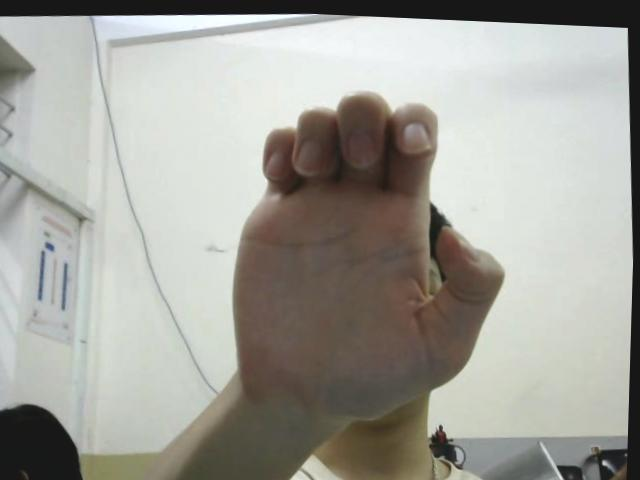E: (217, 72, 519, 421)
